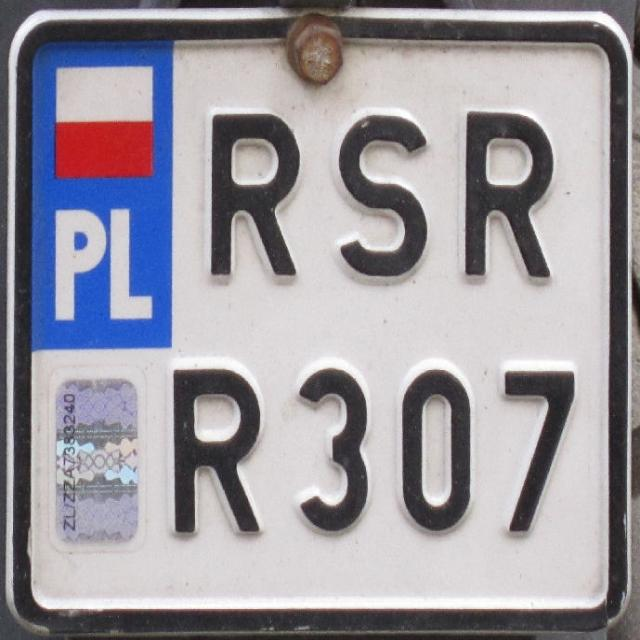pl_license_plate: (24, 32, 619, 615)
